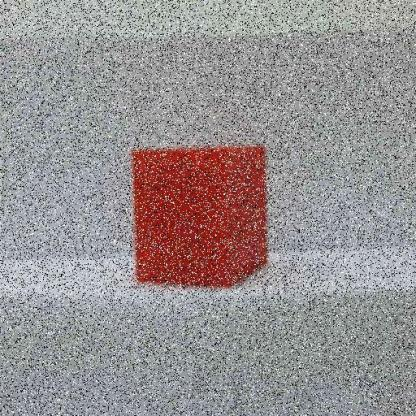rectangle: (132, 145, 268, 288)
